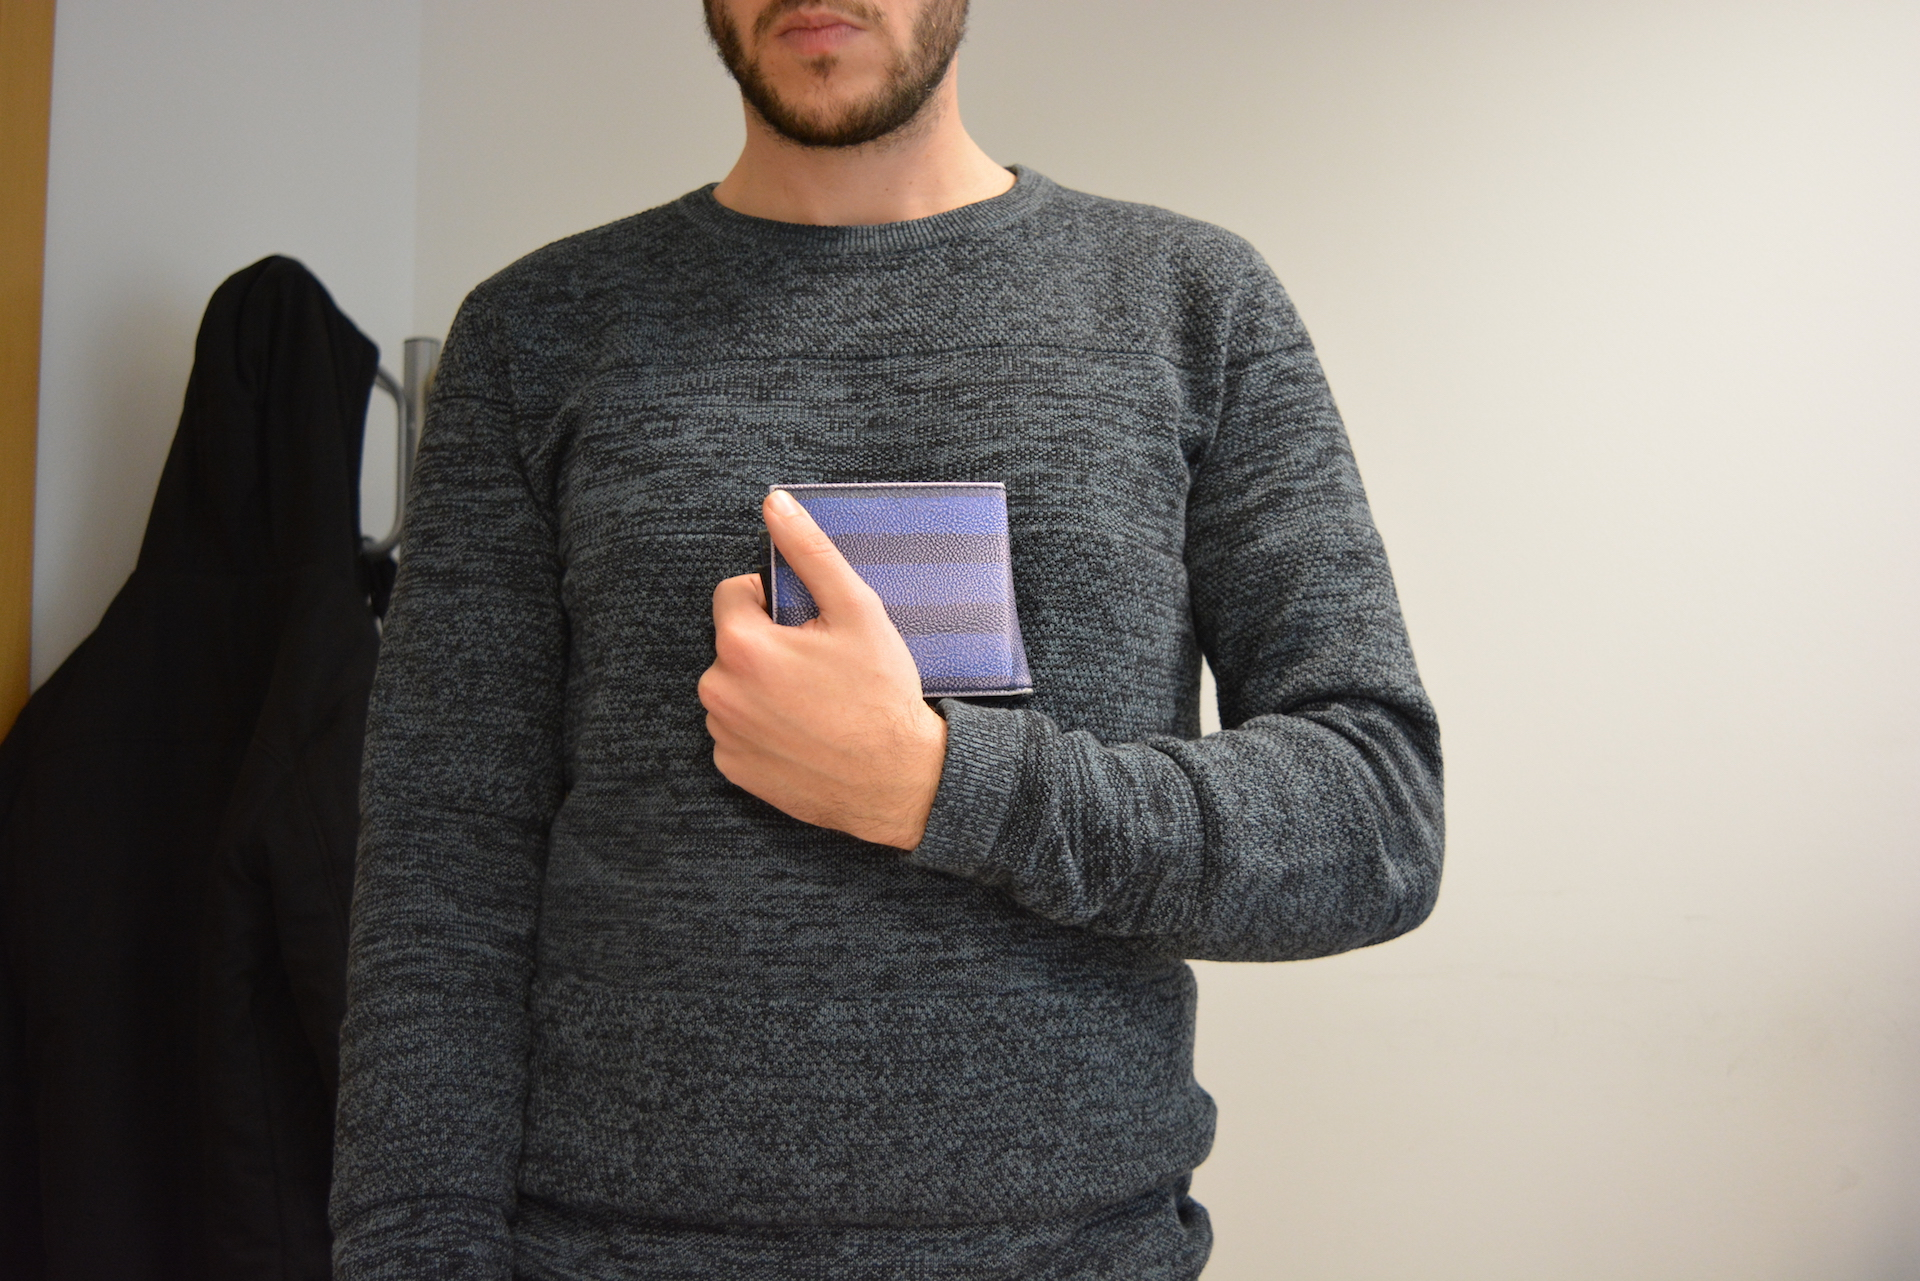monedero: (758, 480, 1036, 713)
